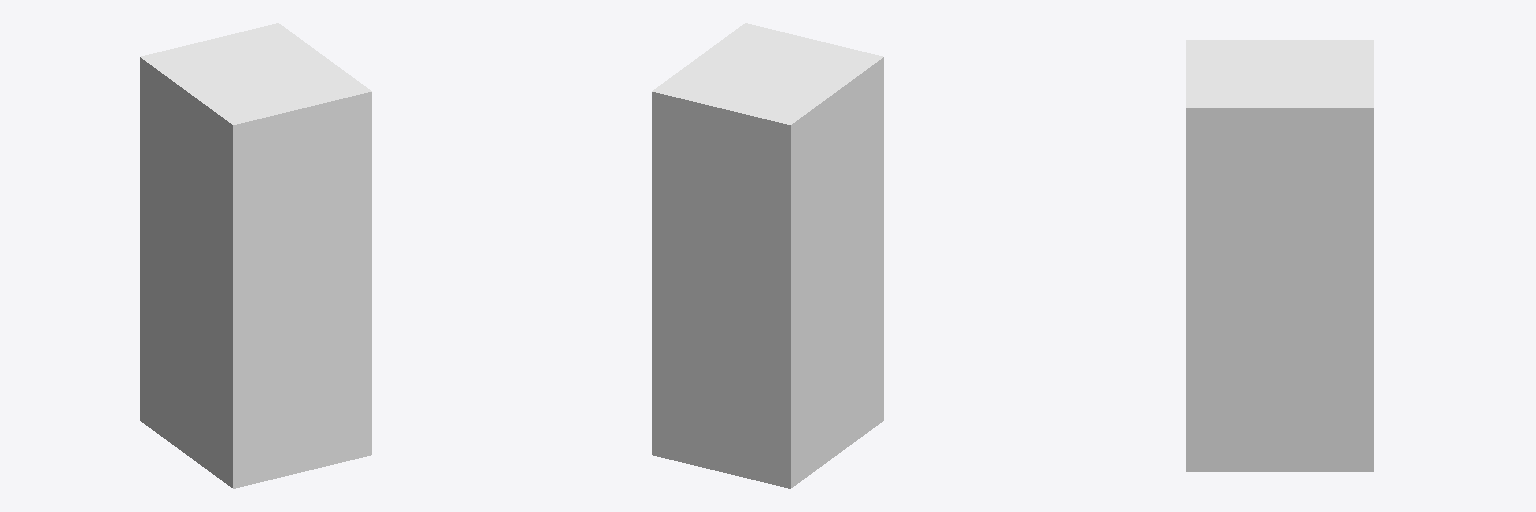
File: FFlefthandup.obj
3 views of the same model, side by side, from view 1: azimuth 30°, elevation 25°; view 2: azimuth 150°, elevation 25°; view 3: azimuth 270°, elevation 25° (orthographic).
Visible parts, largest first — view 1: object 1; view 2: object 1; view 3: object 1.
Boxes of the visible parts, x1=… form: object 1: x1=140, y1=23, x2=371, y2=488; object 1: x1=652, y1=23, x2=883, y2=488; object 1: x1=1186, y1=40, x2=1373, y2=471.
Size of the model in its own units: 0.6 by 1.5 by 0.7.